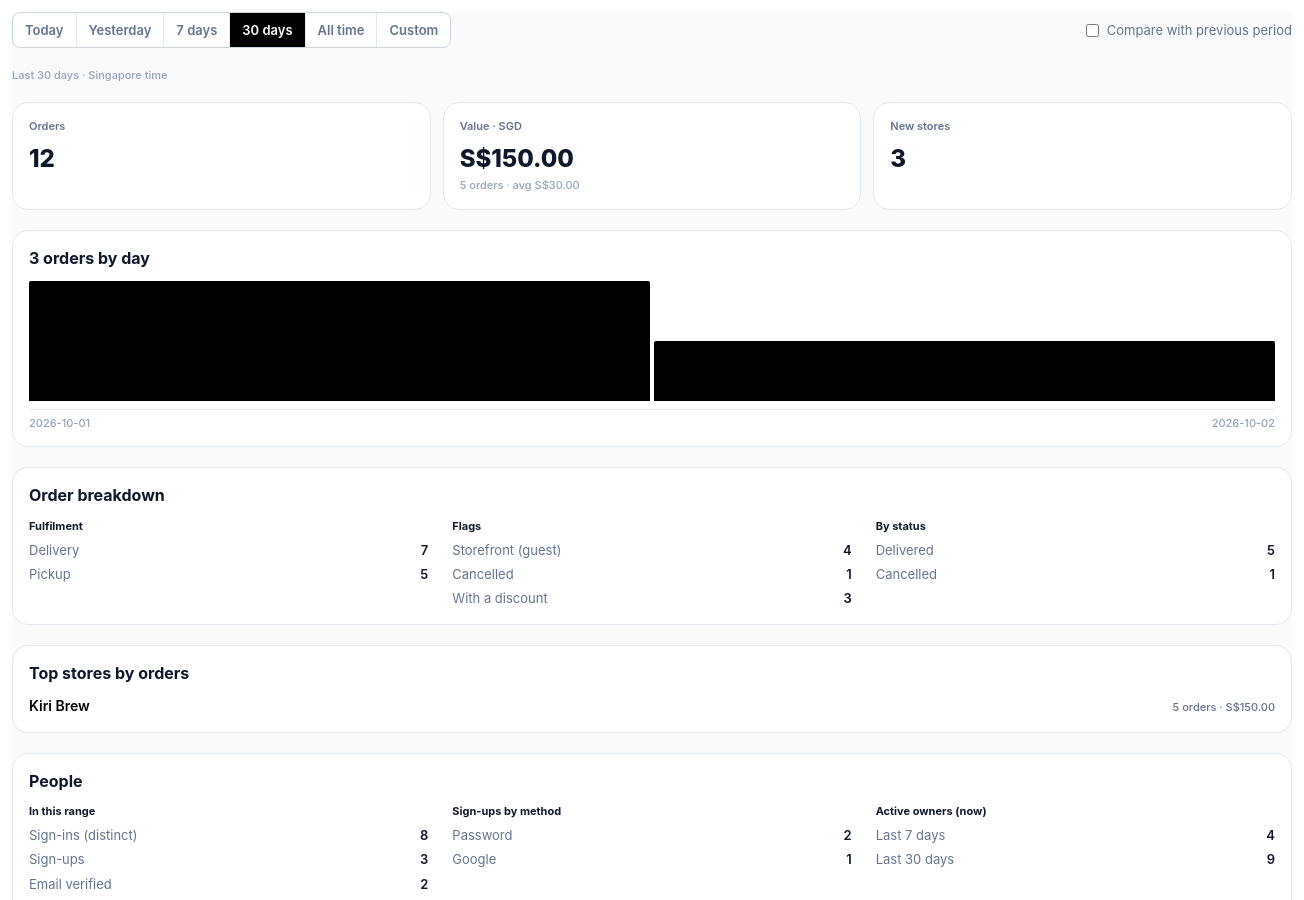
AdminAnalytics › reveals the custom date fields when Custom is selected
Click the button "Custom": (413, 30) [376,13,450,47]
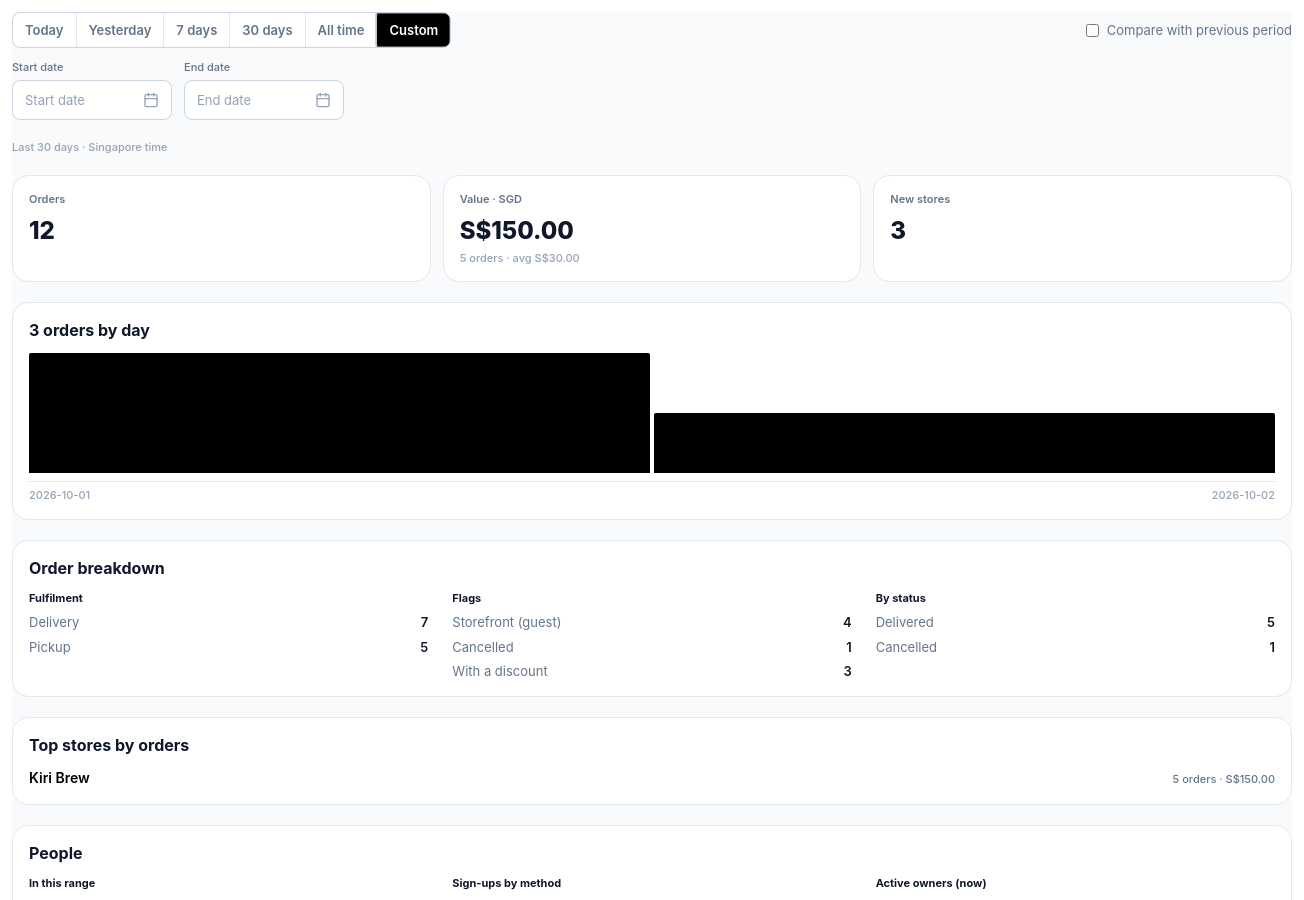
Now the button with aria-label "Custom range start date" is shown, box [12,80,172,120]
Now the button with aria-label "Custom range end date" is shown, box [184,80,344,120]
